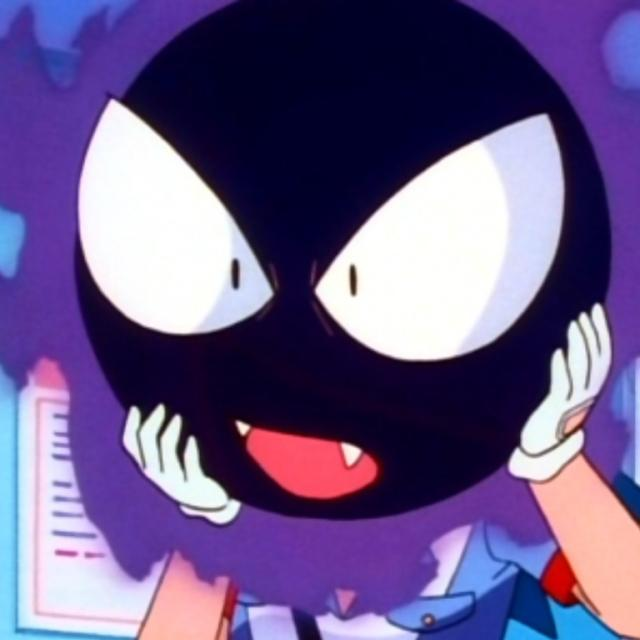Gastly: (37, 0, 634, 575)
